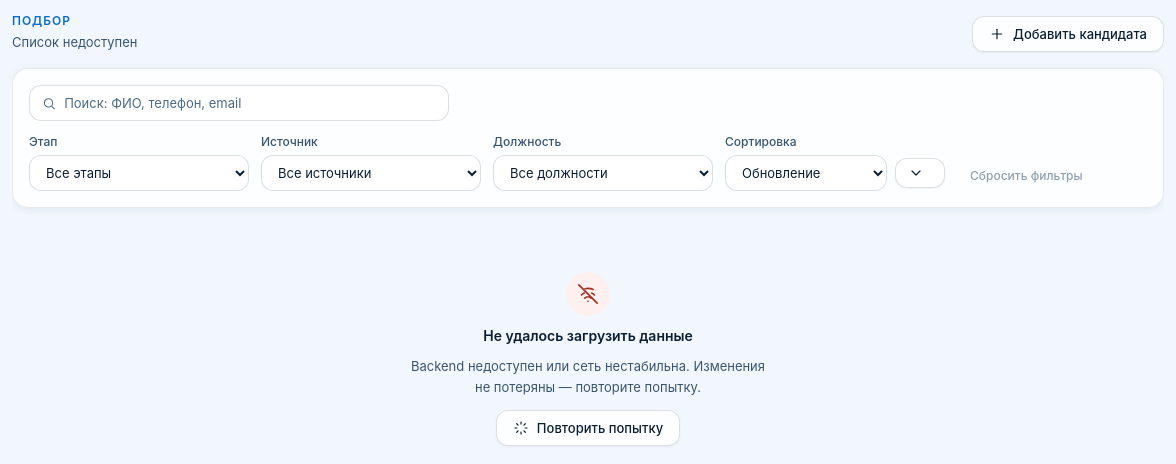
it: CandidatesListPage › shows an error with retry when the request fails
Click the button "Повторить попытку" at (588, 428), box [496,410,680,446]
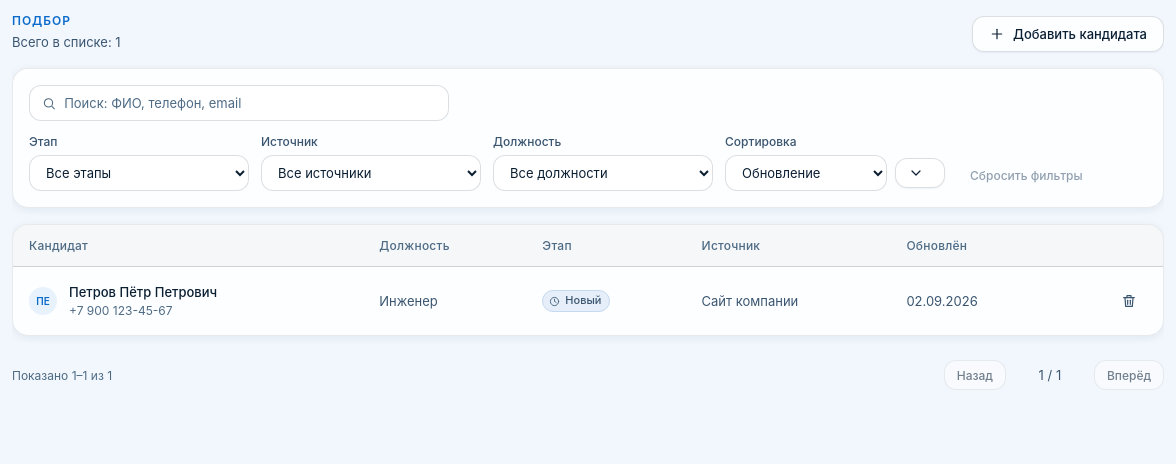
Expected: the text "Петров Пётр Петрович" is shown, [69,283,217,302]
